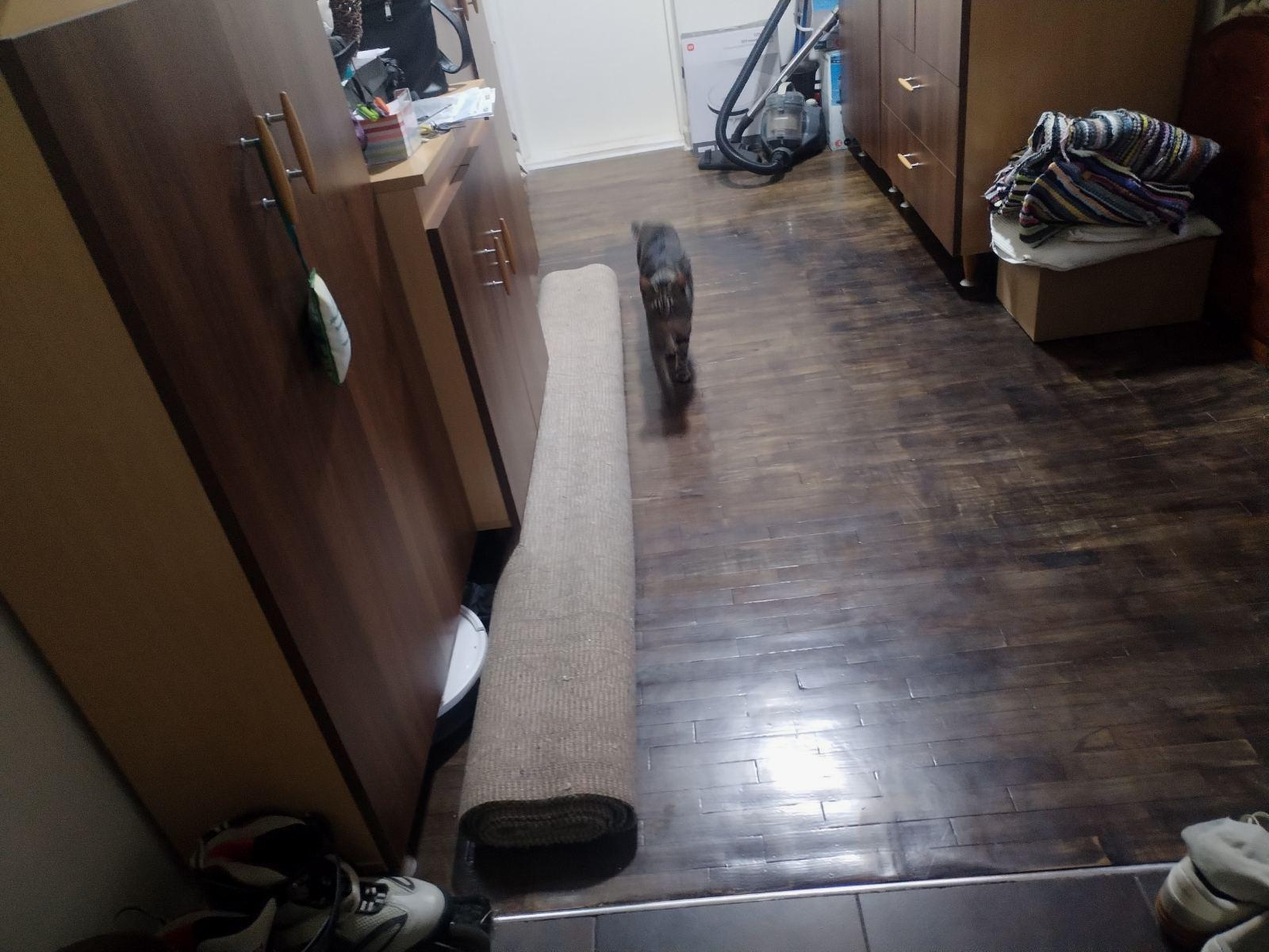macka: (629, 219, 696, 389)
